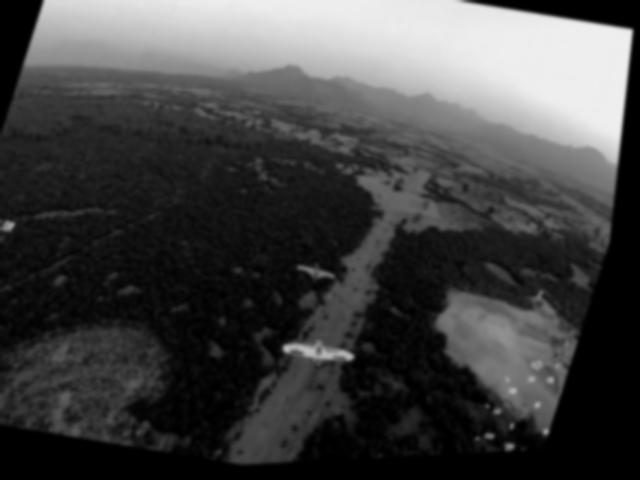hedef: (269, 318, 374, 399)
